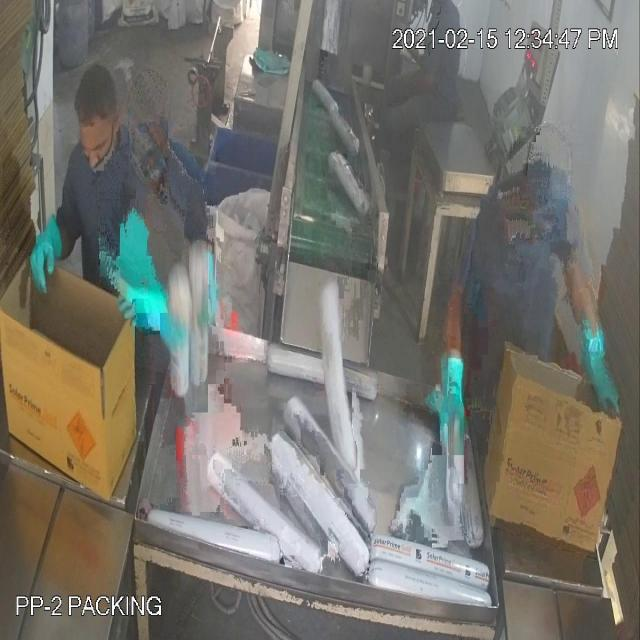Gloves: (41, 52, 599, 400)
